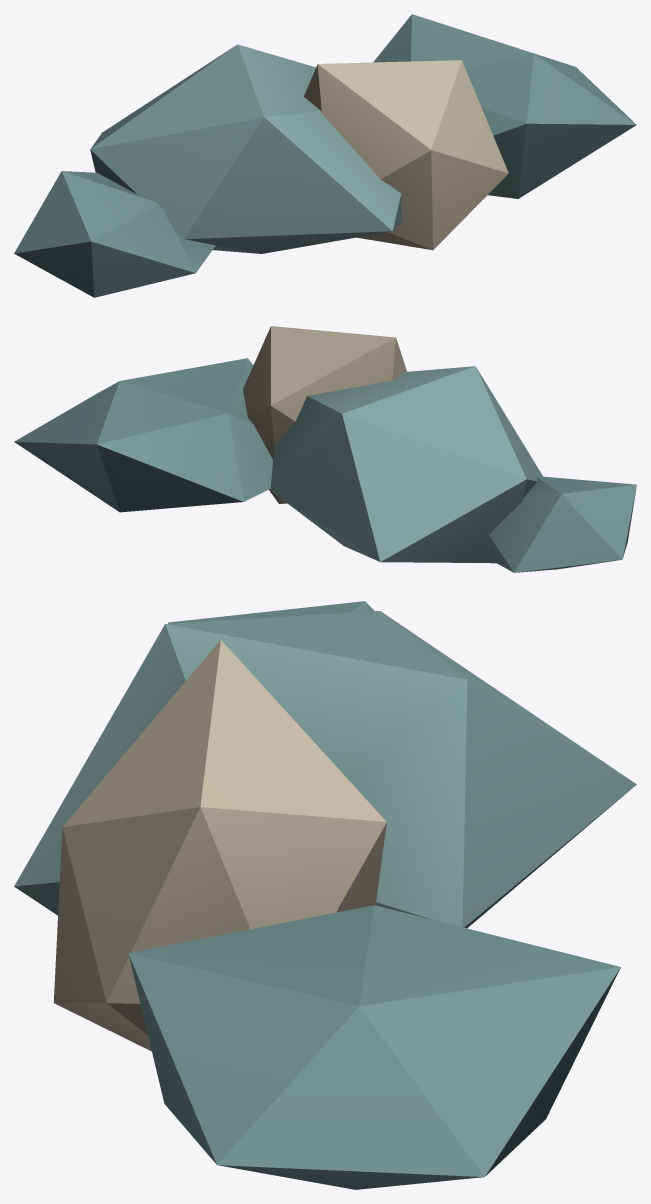
File: nets.lod2.glb
3 views of the same model, one above another, from view 1: azimuth 30°, elevation 25°; view 2: azimuth 150°, elevation 25°; view 3: azimuth 270°, elevation 25° (orthographic). The views are drawn at different scales.
Bounding box in the file's own units: 2.07 × 0.5525 × 1.03.
